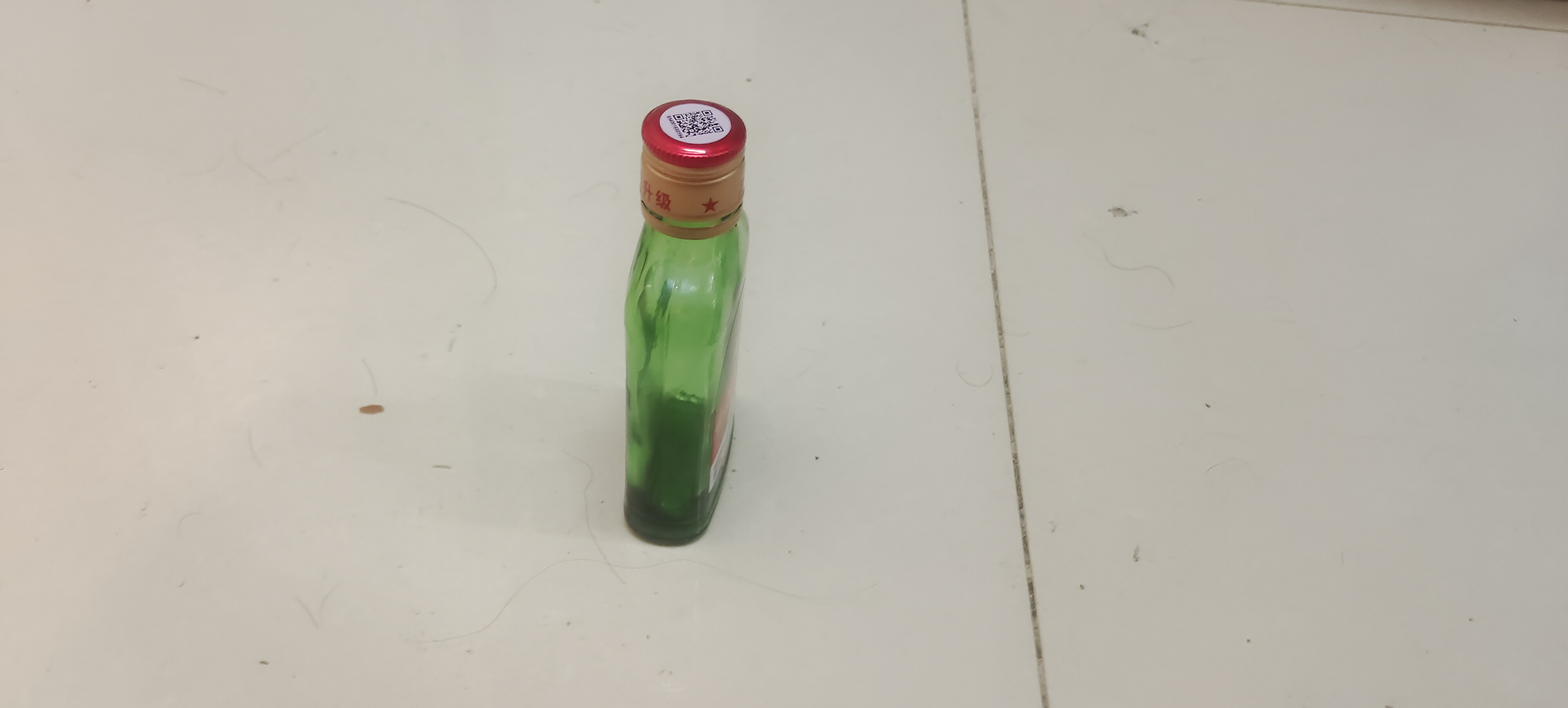redbull: (495, 85, 877, 554)
